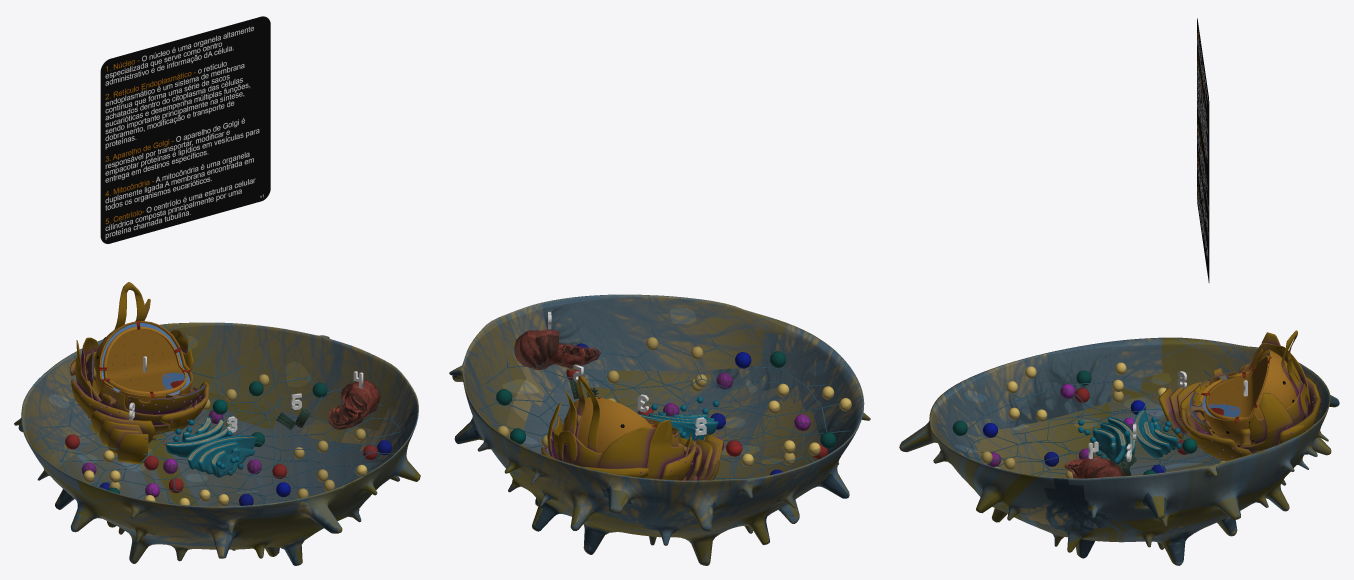
The model's file is animalcell.gltf.
The picture shows the model from 3 angles, left to right: view 1: azimuth 30°, elevation 25°; view 2: azimuth 150°, elevation 25°; view 3: azimuth 270°, elevation 25°; orthographic projection. The views are drawn at different scales.
Parts seen in each view (by area): view 1: PlasmaMembrane, Cytoplasm, Plane, ReticulumSmooth, NuclearNucleolus, Сitoskeleton, IncorporationOf, GolgiApparatus_type00, Lysosome, NuclearEnvelope_01, MitochondrionSliceInnerMembrane, MitochondrionSliceOuterMembrane (+2 smaller); view 2: PlasmaMembrane, Cytoplasm, ReticulumSmooth, Сitoskeleton, IncorporationOf, NuclearEnvelope_00, MitochondrionSliceOuterMembrane, Lysosome, MitochondrionSliceInnerMembrane, GolgiApparatus_type00; view 3: PlasmaMembrane, Cytoplasm, ReticulumSmooth, GolgiApparatus_type00, Plane, Сitoskeleton, NuclearEnvelope_00, IncorporationOf, NuclearNucleolus, Lysosome, MitochondrionSliceOuterMembrane, MitochondrionSliceInnerMembrane (+1 smaller).
Boxes of the visible parts, left/top/right/bottom form: PlasmaMembrane: left=14, top=322, right=420, bottom=565; Cytoplasm: left=24, top=326, right=415, bottom=505; Plane: left=100, top=16, right=270, bottom=243; ReticulumSmooth: left=70, top=282, right=209, bottom=464; NuclearNucleolus: left=106, top=329, right=184, bottom=391; Сitoskeleton: left=38, top=365, right=400, bottom=506; IncorporationOf: left=65, top=381, right=391, bottom=505; GolgiApparatus_type00: left=166, top=416, right=256, bottom=477; Lysosome: left=83, top=374, right=367, bottom=506; NuclearEnvelope_01: left=99, top=321, right=192, bottom=396; MitochondrionSliceInnerMembrane: left=329, top=381, right=376, bottom=426; MitochondrionSliceOuterMembrane: left=327, top=379, right=380, bottom=429; PlasmaMembrane: left=449, top=294, right=870, bottom=565; Cytoplasm: left=464, top=298, right=861, bottom=479; ReticulumSmooth: left=541, top=375, right=723, bottom=480; Сitoskeleton: left=479, top=328, right=850, bottom=480; IncorporationOf: left=496, top=343, right=836, bottom=480; NuclearEnvelope_00: left=562, top=397, right=654, bottom=453; MitochondrionSliceOuterMembrane: left=514, top=329, right=600, bottom=369; Lysosome: left=497, top=337, right=851, bottom=466; MitochondrionSliceInnerMembrane: left=519, top=332, right=597, bottom=367; GolgiApparatus_type00: left=636, top=411, right=718, bottom=440; PlasmaMembrane: left=899, top=337, right=1339, bottom=565; Cytoplasm: left=932, top=345, right=1325, bottom=477; ReticulumSmooth: left=1158, top=330, right=1320, bottom=461; GolgiApparatus_type00: left=1093, top=409, right=1178, bottom=464; Plane: left=1197, top=18, right=1209, bottom=282; Сitoskeleton: left=950, top=368, right=1220, bottom=475; NuclearEnvelope_00: left=1203, top=349, right=1296, bottom=444; IncorporationOf: left=952, top=370, right=1197, bottom=474; NuclearNucleolus: left=1207, top=357, right=1267, bottom=417; Lysosome: left=981, top=362, right=1225, bottom=478; MitochondrionSliceOuterMembrane: left=1064, top=456, right=1124, bottom=478; MitochondrionSliceInnerMembrane: left=1068, top=460, right=1121, bottom=478.
Bounding box in the file's own units: 0.2334 × 0.3127 × 0.2567.
15 materials, 14 textured.
